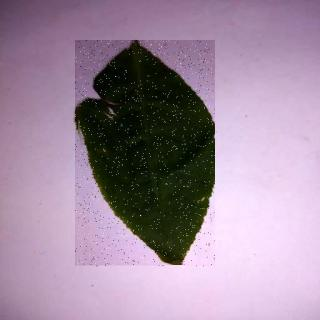Bird Eye Spot: (77, 42, 217, 268)
